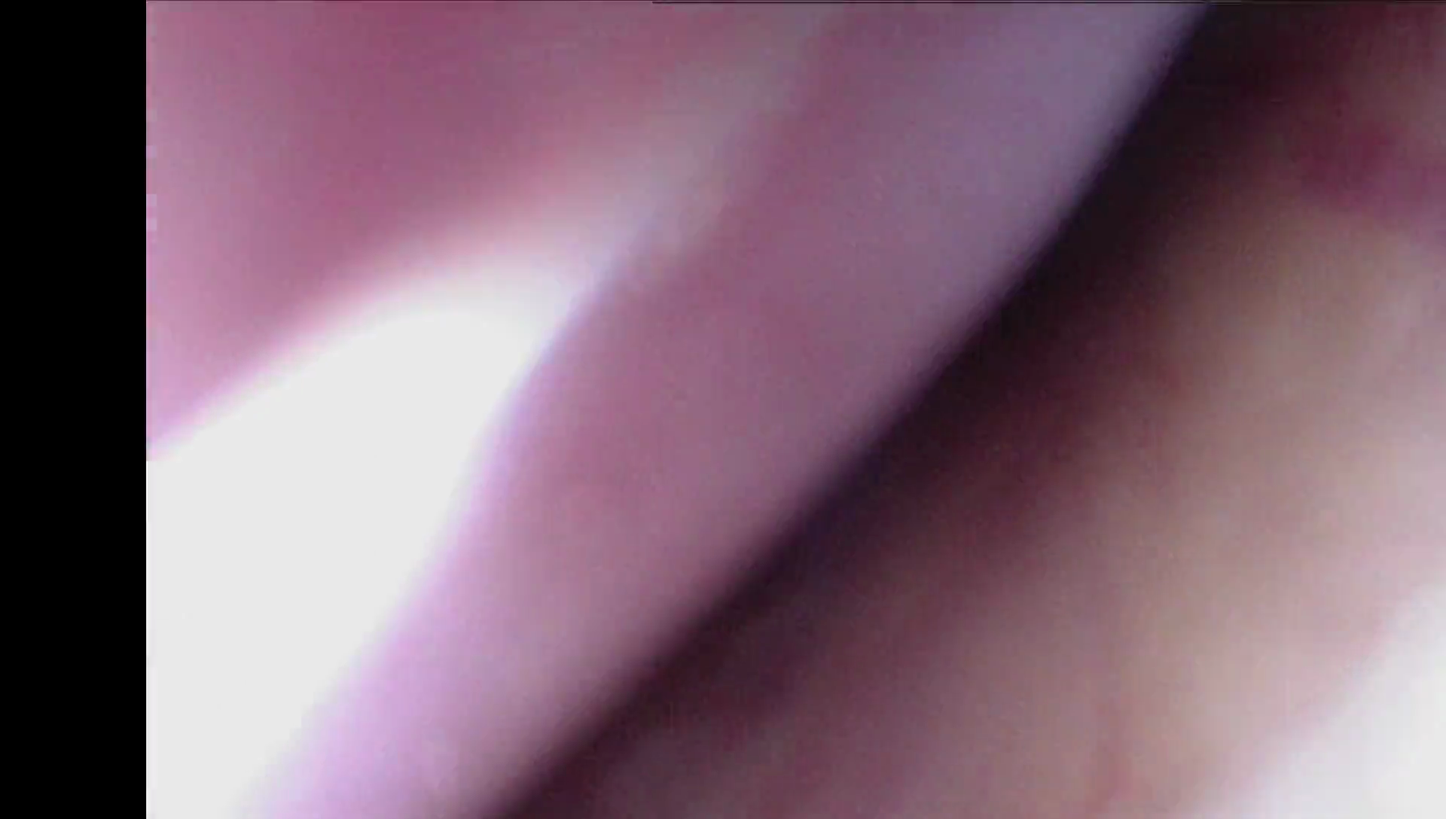close_wall: (1104, 503, 1446, 819)
next: (867, 0, 1327, 476)
